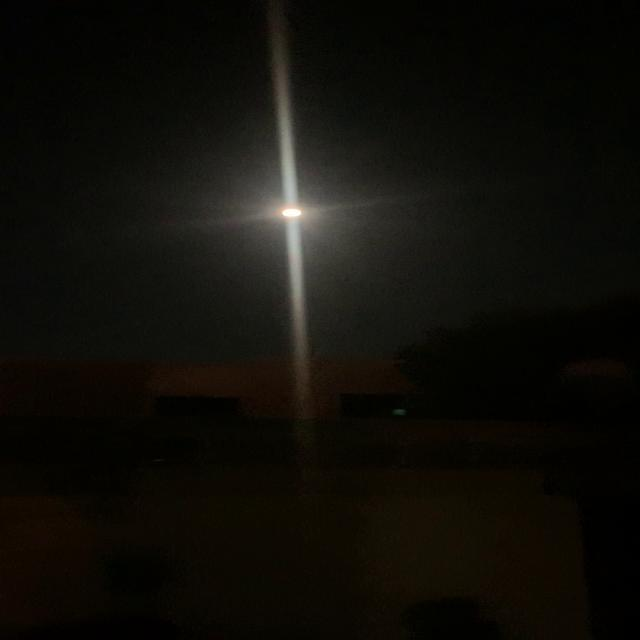moon: (270, 202, 314, 228)
